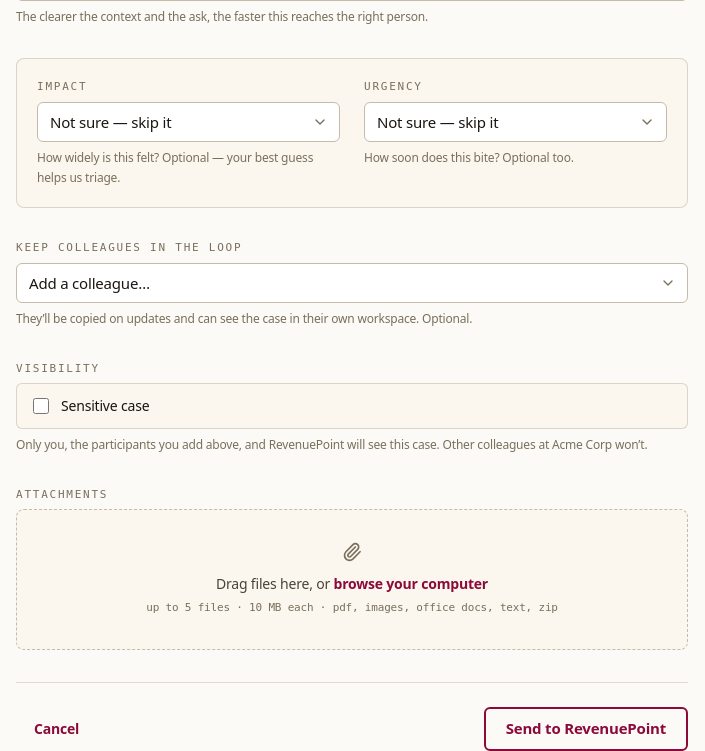
Test: CaseCreatePage › validates subject and description before sending
(page scrolled)
Step 1. Click the button "Send to RevenuePoint" → (586, 728), box [484, 706, 688, 750]
(page scrolled)
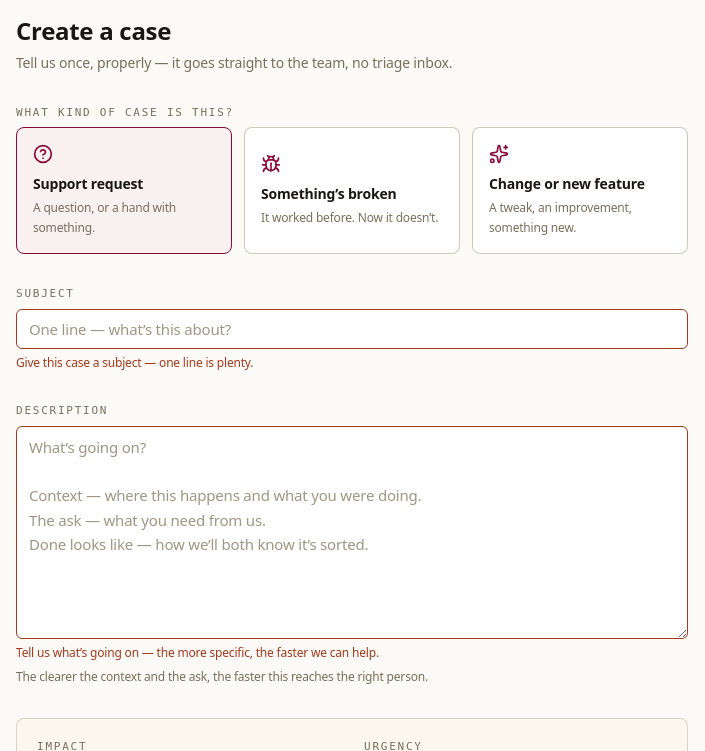
Expected: the text "Give this case a subject — one line is plenty." is shown, [16, 354, 253, 371]
Expected: the text "Tell us what’s going on — the more specific, the faster we can help." is shown, [16, 644, 379, 660]
